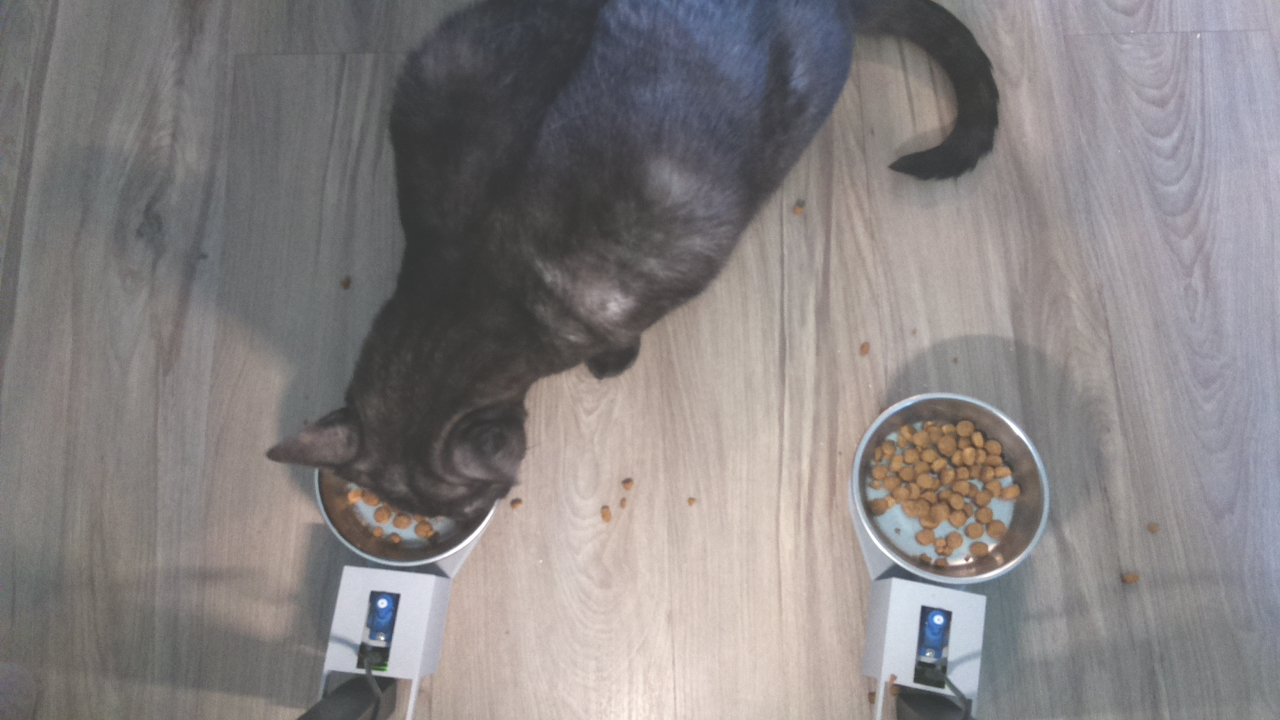open_bowl: (849, 391, 1055, 586)
saki_eating: (257, 323, 547, 578)
